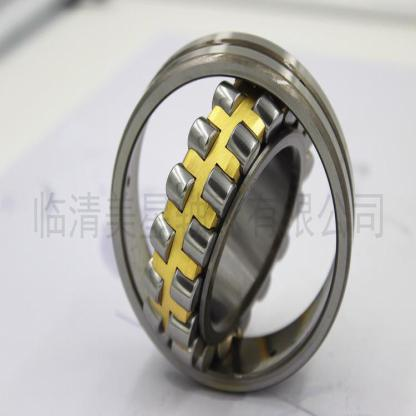FOD: (104, 28, 360, 398)
